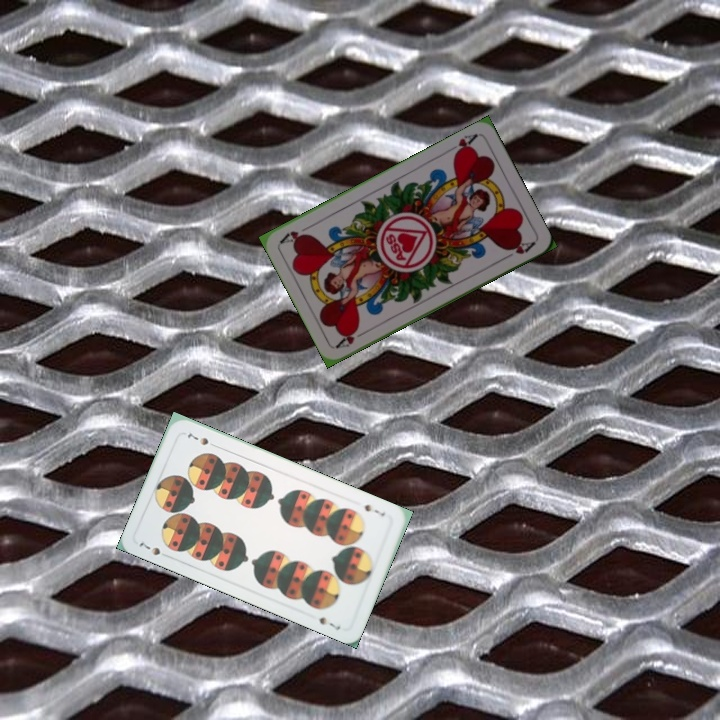HA: (443, 129, 481, 159), (332, 325, 371, 351)
S7: (135, 538, 163, 558), (360, 500, 388, 519)
